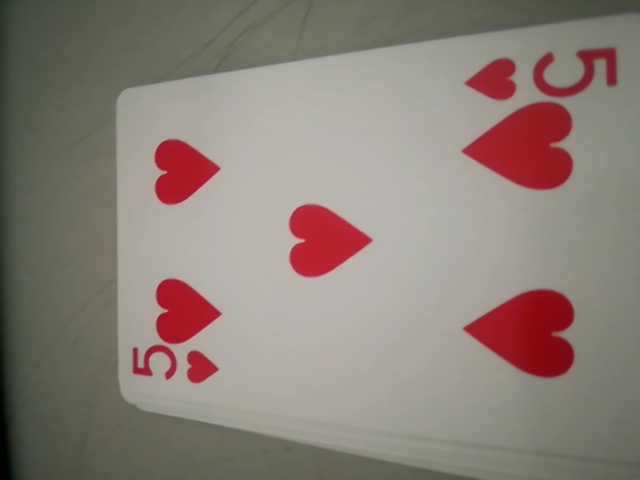hx 5: (463, 36, 622, 107), (126, 339, 225, 395)
